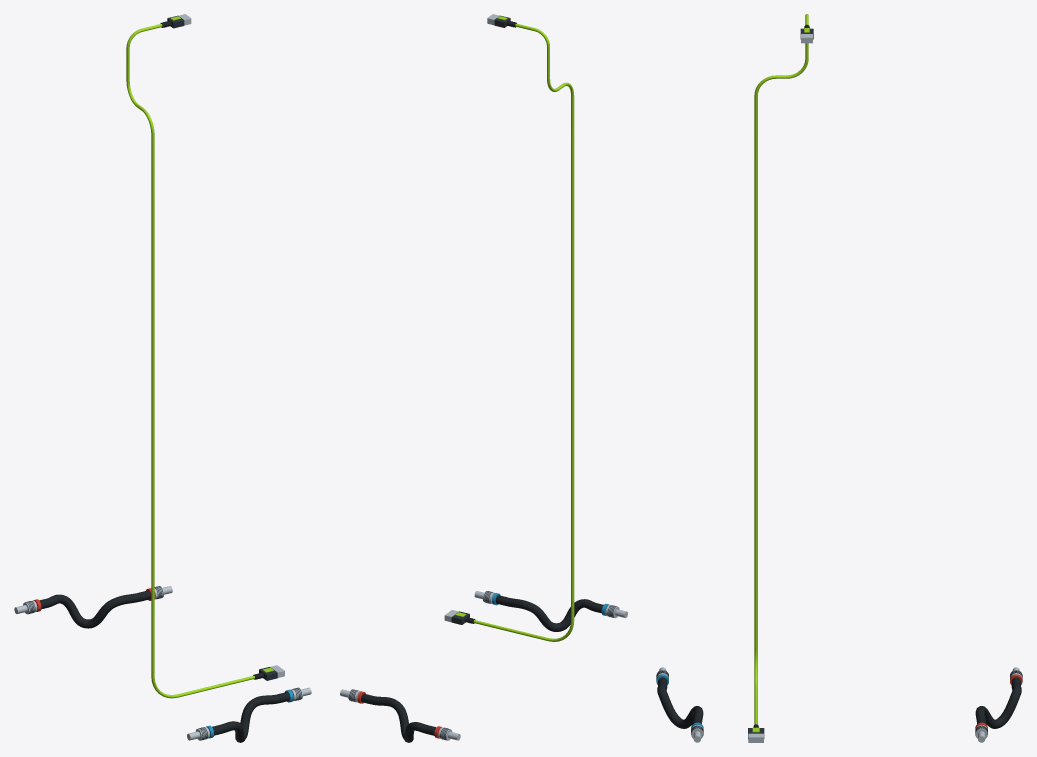
File: SM_GJ_Harness_11.fbx
3 views of the same model, side by side, from view 1: azimuth 30°, elevation 25°; view 2: azimuth 150°, elevation 25°; view 3: azimuth 270°, elevation 25° (orthographic). The views are drawn at different scales.
Visible parts, largest first — view 1: SM_GJ_Harness_11; view 2: SM_GJ_Harness_11; view 3: SM_GJ_Harness_11.
Boxes of the visible parts, x1,y1,x2,y2 form: SM_GJ_Harness_11: (14, 14, 311, 742); SM_GJ_Harness_11: (340, 14, 627, 742); SM_GJ_Harness_11: (656, 14, 1022, 742).
Bounding box in the file's own units: 22.6 × 50.76 × 106.
